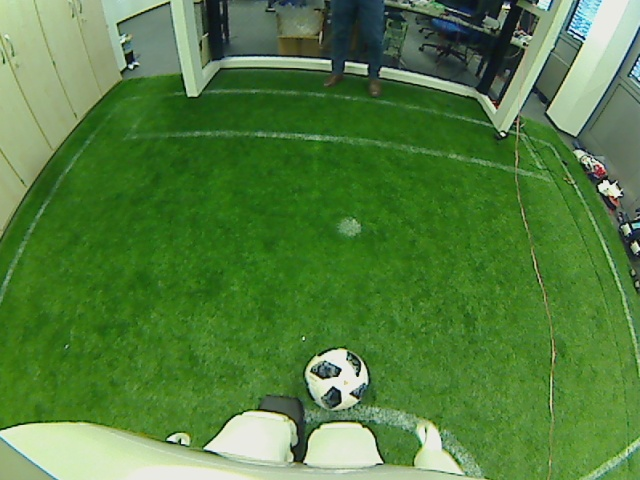ball: (303, 344, 373, 411)
